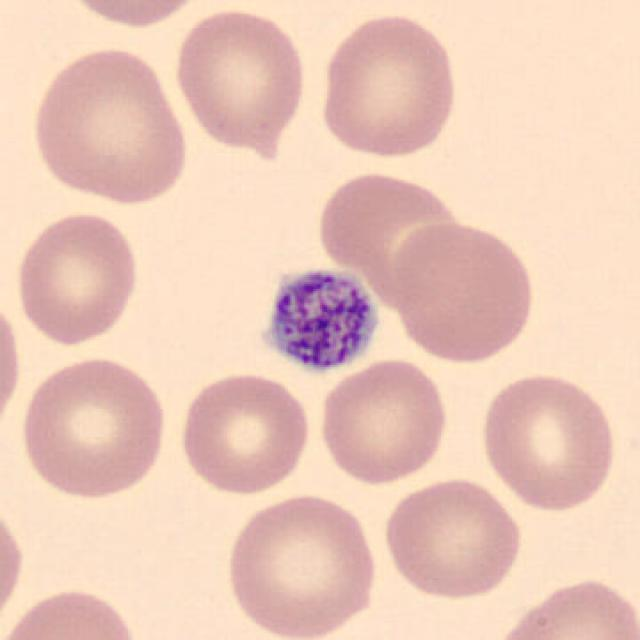Platelets: (252, 263, 384, 381)
RBC: (27, 42, 192, 208), (220, 488, 382, 640), (16, 352, 171, 500), (315, 7, 462, 162), (313, 164, 471, 307), (388, 217, 538, 367), (474, 368, 620, 515), (169, 4, 311, 155), (379, 474, 526, 603), (11, 206, 142, 349), (314, 356, 452, 487), (174, 369, 315, 497), (490, 573, 640, 640), (0, 583, 144, 640), (54, 0, 214, 32), (0, 495, 28, 636), (0, 289, 25, 437)
